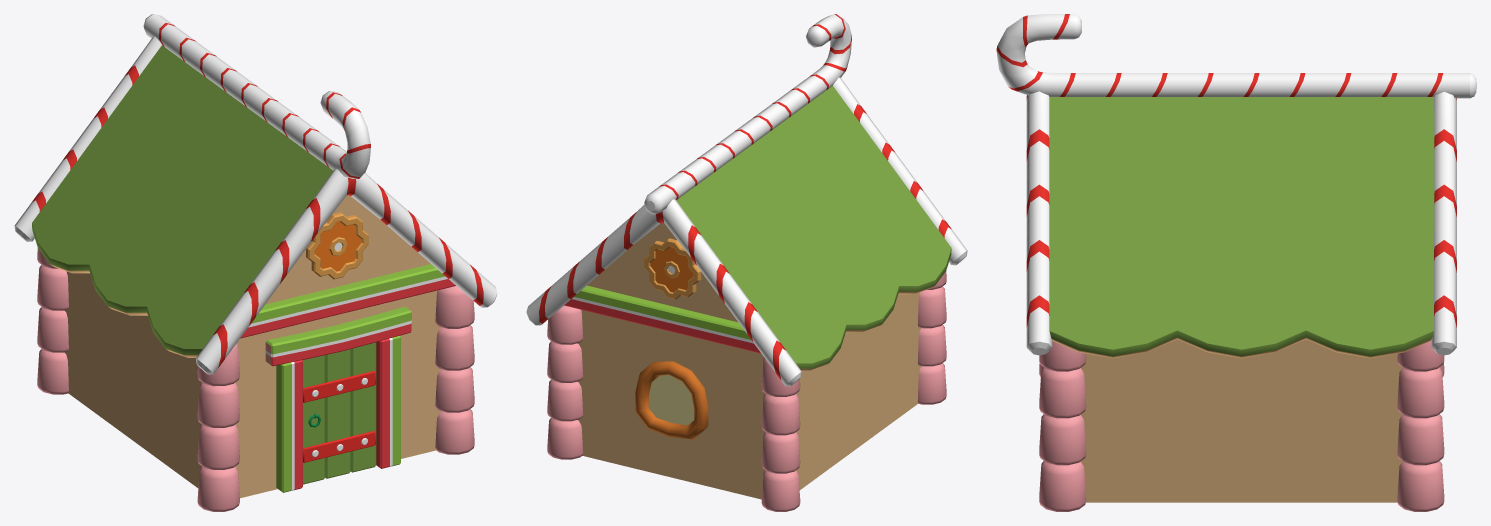
File: House_10.fbx
3 renders of one model, left to right at view 1: azimuth 30°, elevation 25°; view 2: azimuth 150°, elevation 25°; view 3: azimuth 270°, elevation 25°, orthographic. The views are drawn at different scales.
Visible parts, largest first — view 1: House_10; view 2: House_10; view 3: House_10.
Boxes of the visible parts, left/top/right/bottom form: House_10: left=14, top=14, right=497, bottom=511; House_10: left=526, top=14, right=967, bottom=511; House_10: left=996, top=14, right=1476, bottom=511.
Size of the model in its own units: 5.47 by 6.67 by 6.84.
